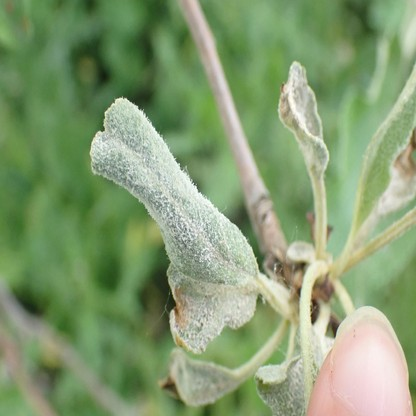powder: (88, 97, 258, 352), (255, 331, 335, 415), (279, 60, 329, 171), (157, 348, 238, 407)
